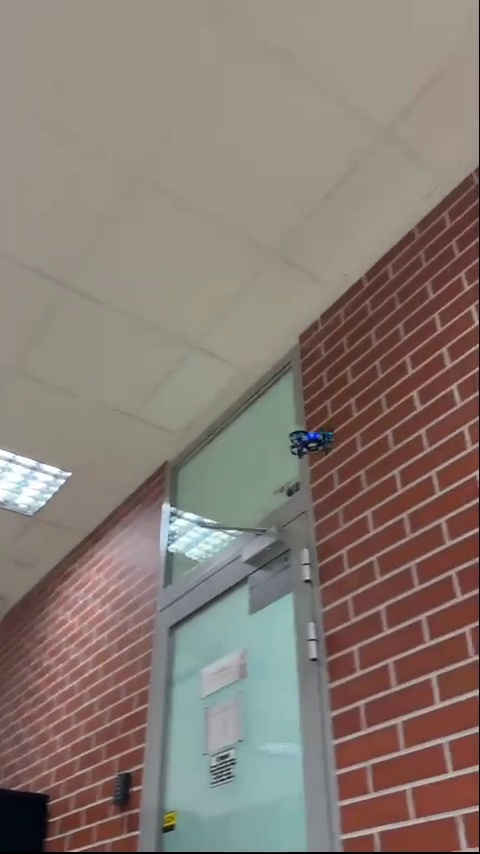drone: (288, 428, 336, 458)
